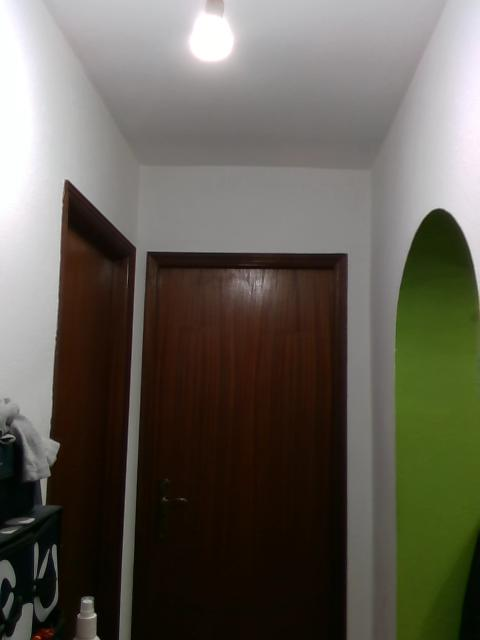closed_door: (128, 251, 346, 639)
